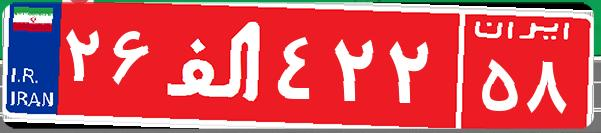2: (385, 28, 445, 110), (330, 28, 385, 110), (57, 26, 110, 107)
4: (273, 28, 330, 110)
5: (475, 38, 525, 113)
6: (110, 28, 158, 105)
8: (525, 38, 570, 115)
الف: (158, 15, 273, 115)
